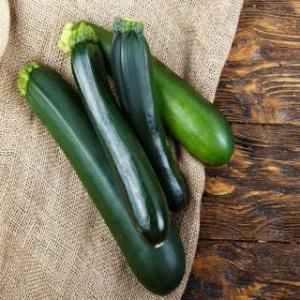zucchini: (63, 38, 168, 246)
